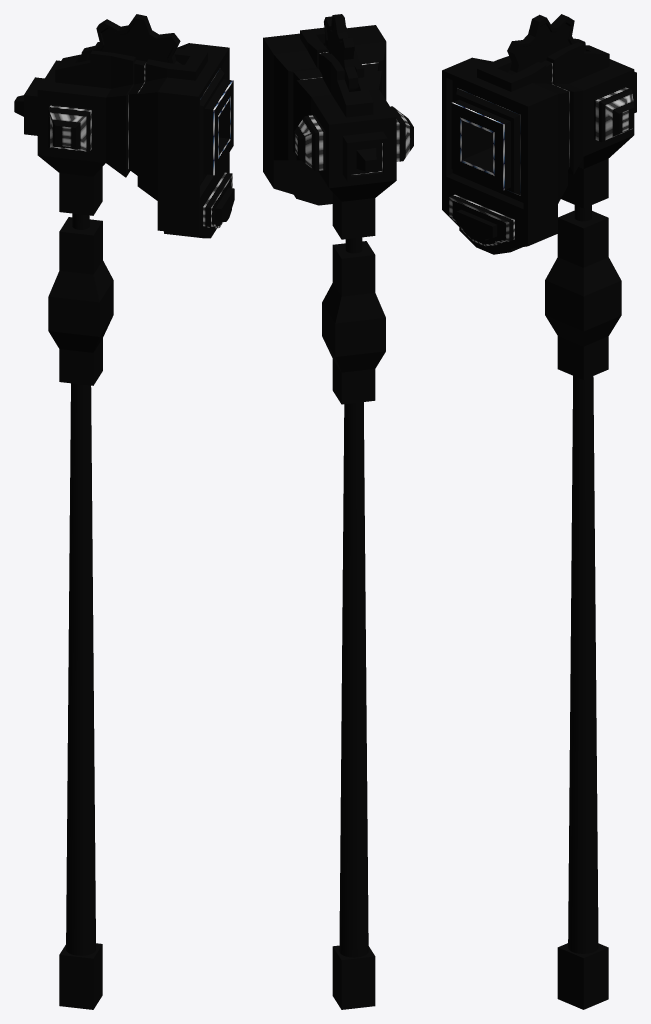
Rendered from Dispenser_2_0.fbx.
3 renders of one model, left to right at view 1: azimuth 30°, elevation 25°; view 2: azimuth 150°, elevation 25°; view 3: azimuth 270°, elevation 25°, orthographic. The views are drawn at different scales.
Parts seen in each view (by area): view 1: Dispenser, Dispenser_Prop_0, Dispenser_Prop_1, Gear; view 2: Dispenser, Dispenser_Prop_0, Dispenser_Prop_1, Gear; view 3: Dispenser, Dispenser_Prop_0, Dispenser_Prop_1, Gear.
Part boxes in pixels (x1,y1,x2,y2): Dispenser: (14,42,234,238); Dispenser_Prop_0: (59,167,102,1009); Dispenser_Prop_1: (48,217,113,385); Gear: (81,14,181,64); Dispenser: (263,25,413,205); Dispenser_Prop_0: (332,192,375,1009); Dispenser_Prop_1: (322,241,385,404); Gear: (323,14,358,91); Dispenser: (442,42,636,254); Dispenser_Prop_0: (557,158,608,1009); Dispenser_Prop_1: (545,210,621,379); Gear: (507,14,585,74).
Size of the model in its own units: 1.6 by 9.08 by 1.6.
1 material, 1 textured.
